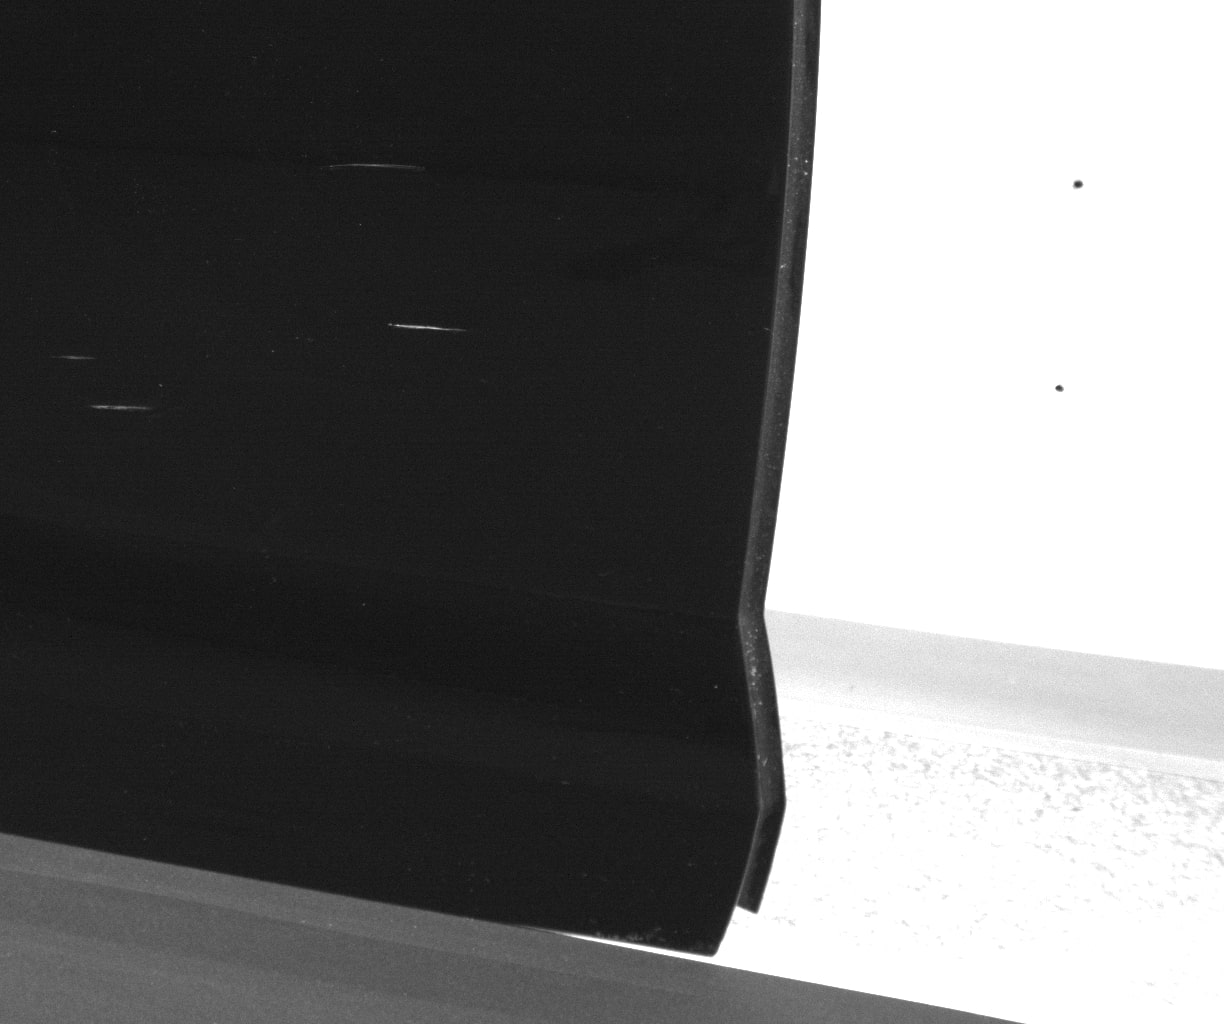scratch: (388, 323, 467, 333), (328, 163, 421, 170), (91, 404, 148, 411), (54, 355, 96, 360)
